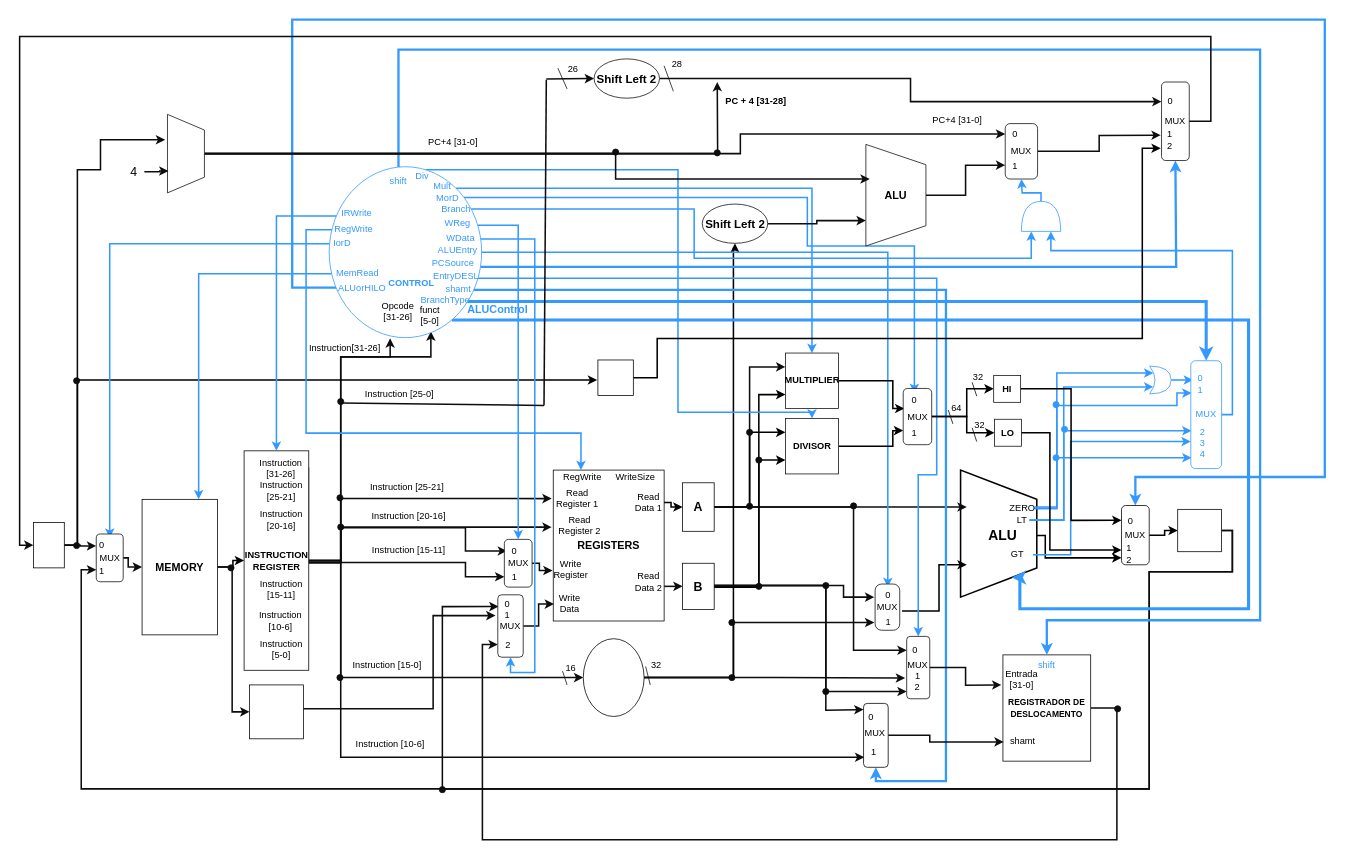
This 1345x860 diagram has some shape labels left out. Here are the shapes that lost their labels. From the top down, the centre of each, then its label:
the point at 185,153: ADD
the point at 615,377: EPC
the point at 48,545: PC
the point at 1199,530: ALUOut
the point at 613,677: Sign Extend
the point at 276,711: Memory Data Register
